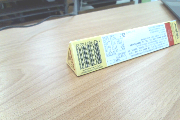Chocolate: (61, 17, 180, 81)
